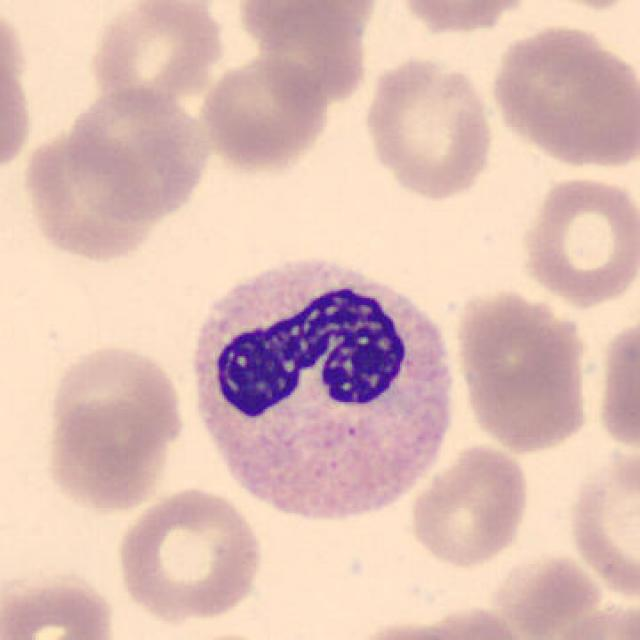Neutrophil: (178, 250, 469, 540)
RBC: (450, 286, 596, 457), (486, 19, 636, 171), (60, 83, 214, 227), (112, 483, 267, 626), (359, 51, 500, 203), (16, 120, 162, 266), (41, 337, 188, 474), (194, 51, 334, 175), (41, 393, 181, 513), (516, 173, 638, 310), (85, 0, 229, 116), (406, 441, 534, 571), (562, 442, 640, 606), (484, 548, 612, 638), (0, 564, 121, 640), (229, 0, 384, 51), (0, 0, 37, 187), (592, 310, 638, 460), (341, 610, 535, 640), (388, 0, 542, 37)
